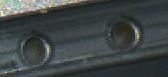joints: (103, 14, 143, 50), (19, 32, 53, 68)
